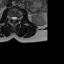CCS_normal: (13, 14, 15, 23)
LFS_normal: (17, 16, 19, 21)
LLS_normal: (15, 14, 17, 21)
RFS_normal: (9, 14, 11, 21)
RLS_normal: (11, 14, 13, 21)
